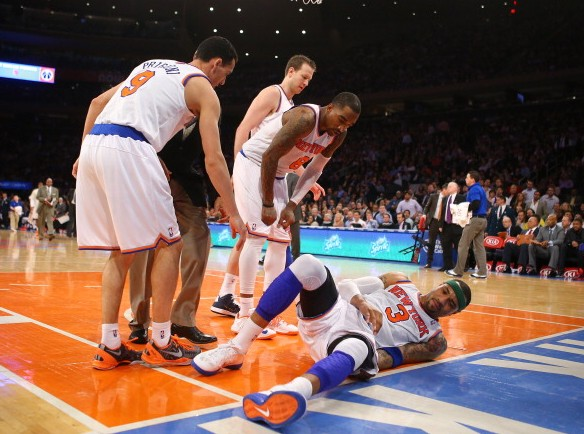10+: (1, 42, 584, 355)
down: (176, 252, 480, 426)
